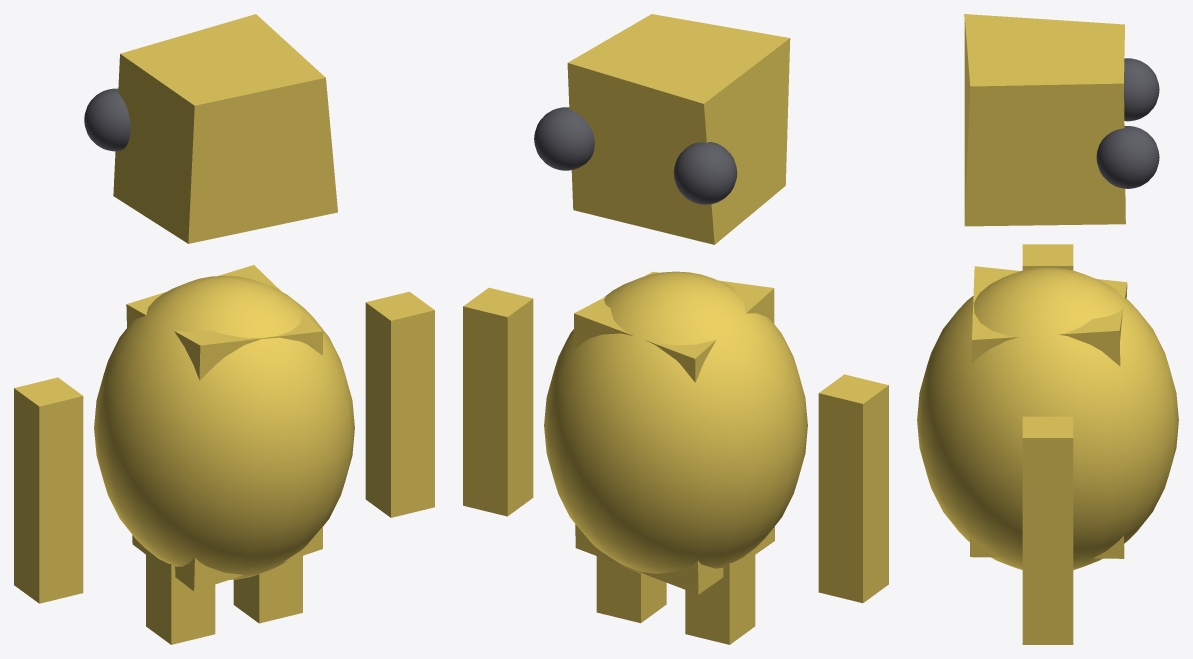
File: clay_bell_character.glb
3 renders of one model, left to right at view 1: azimuth 30°, elevation 25°; view 2: azimuth 150°, elevation 25°; view 3: azimuth 270°, elevation 25°, orthographic.
Visible parts, largest first — view 1: clapper; view 2: clapper; view 3: clapper.
Boxes of the visible parts, x1,y1,x2,y2 form: clapper: (14,14,434,644); clapper: (463,14,888,644); clapper: (917,14,1178,644).
Size of the model in its own units: 1.89 by 2.56 by 1.08.
